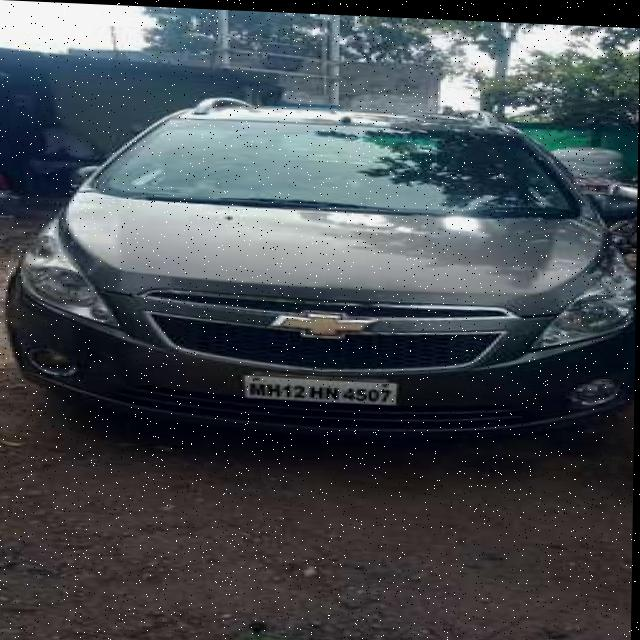plate: (244, 372, 399, 403)
